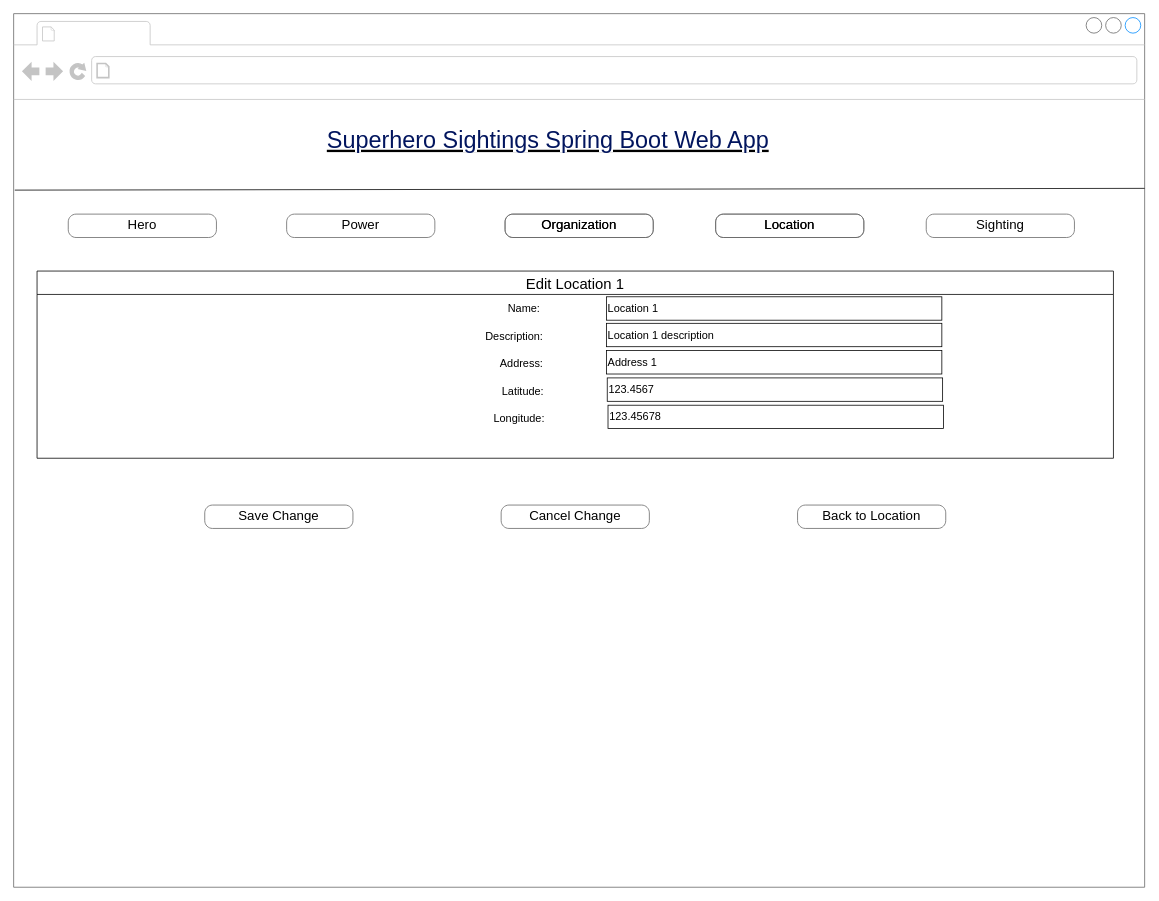
Some shapes in this 1159 by 901 pixel diagram are drawn without their labels. The centre of each missing label's shape, as x and y in pixels:
Edit Location: (x=118, y=32)
https://www.default.com: (x=212, y=70)
